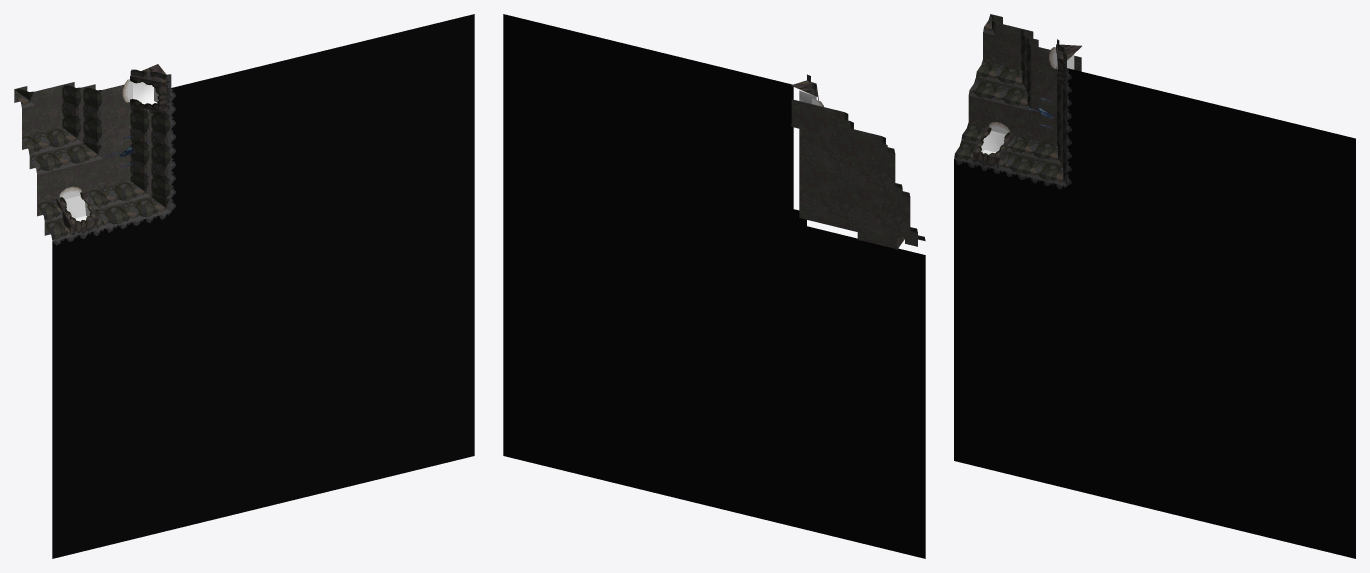
File: HGRT-Caves-v1_19_17.obj
The picture shows the model from 3 angles, left to right: view 1: azimuth 30°, elevation 25°; view 2: azimuth 150°, elevation 25°; view 3: azimuth 330°, elevation 25°; orthographic projection. The views are drawn at different scales.
Parts seen in each view (by area): view 1: map; view 2: map; view 3: map.
Boxes of the visible parts, x1,y1,x2,y2 form: map: (14, 14, 474, 558); map: (503, 14, 925, 558); map: (954, 14, 1355, 558).
Size of the model in its own units: 32 by 33 by 5.
10 materials, 10 textured.
